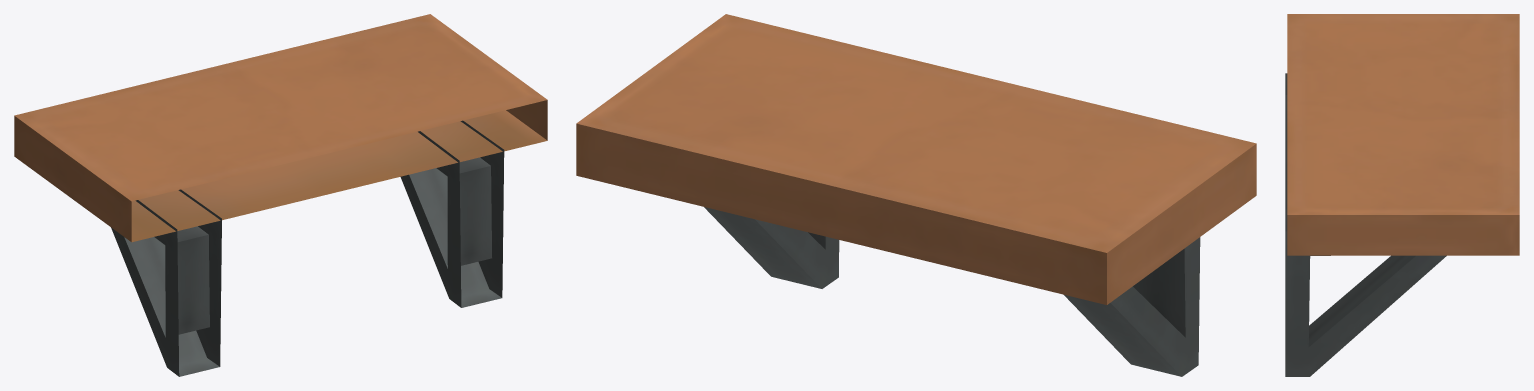
File: Prfb_Indoors_Study_Shelf__2.fbx
3 views of the same model, side by side, from view 1: azimuth 30°, elevation 25°; view 2: azimuth 150°, elevation 25°; view 3: azimuth 270°, elevation 25° (orthographic). The views are drawn at different scales.
Parts seen in each view (by area): view 1: Mat_Indoors_Study_01_1; view 2: Mat_Indoors_Study_01_1; view 3: Mat_Indoors_Study_01_1.
Part boxes in pixels (x1,y1,x2,y2): Mat_Indoors_Study_01_1: (14,14,547,376); Mat_Indoors_Study_01_1: (576,14,1256,376); Mat_Indoors_Study_01_1: (1285,14,1519,376).
Size of the model in its own units: 1.55 by 0.6626 by 0.7645.
Materials: 1 (1 with a texture image).
